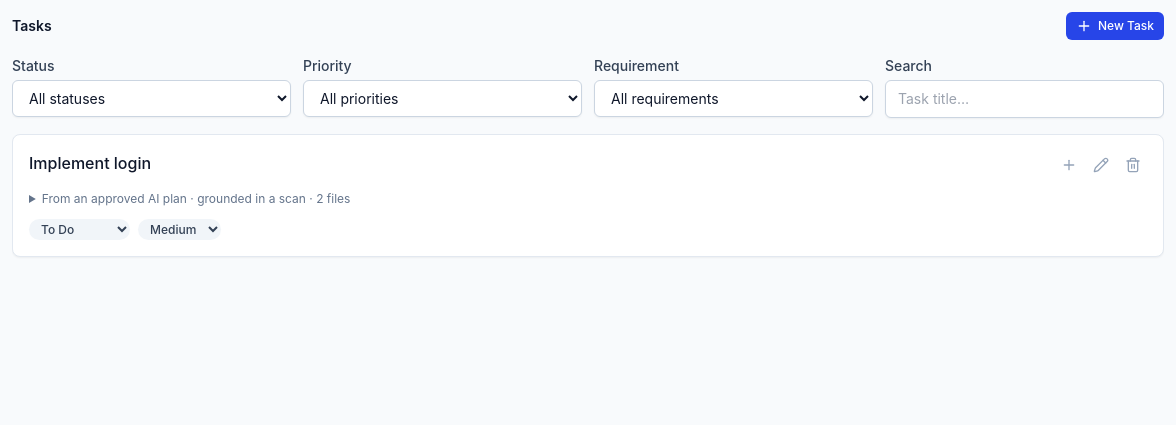
Test case: ProjectTasksTab › shows read-only evidence a task inherited from an approved plan
Click the heading "From an approved AI plan · grounded in a scan · 2 files": x=190, y=199 [29, 191, 350, 207]
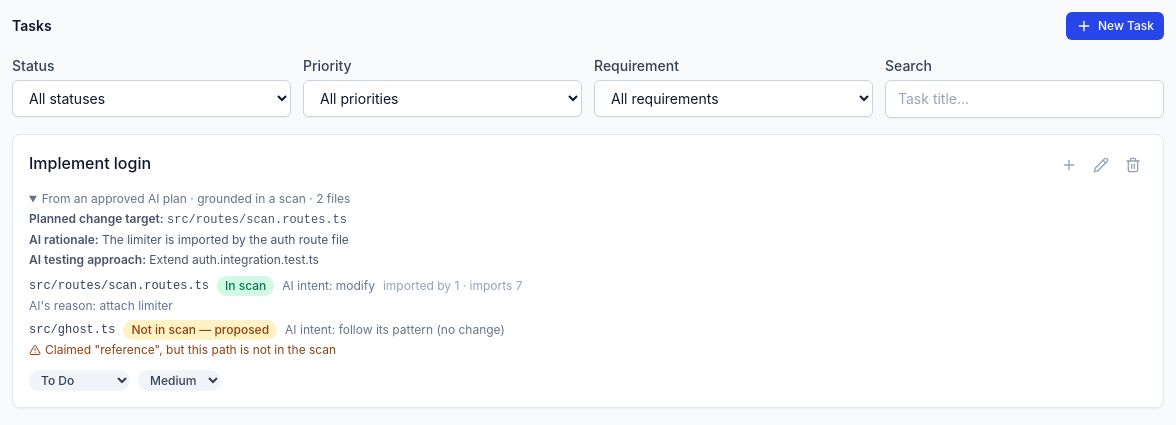
Check: the text "AI rationale: The limiter is imported by the auth route file" is shown, box [29, 232, 349, 247]
Check: the text "AI testing approach: Extend auth.integration.test.ts" is shown, box [29, 252, 319, 267]
Check: the list named "plan evidence files for implement login" shows "src/routes/scan.routes.ts", box [29, 279, 209, 293]
